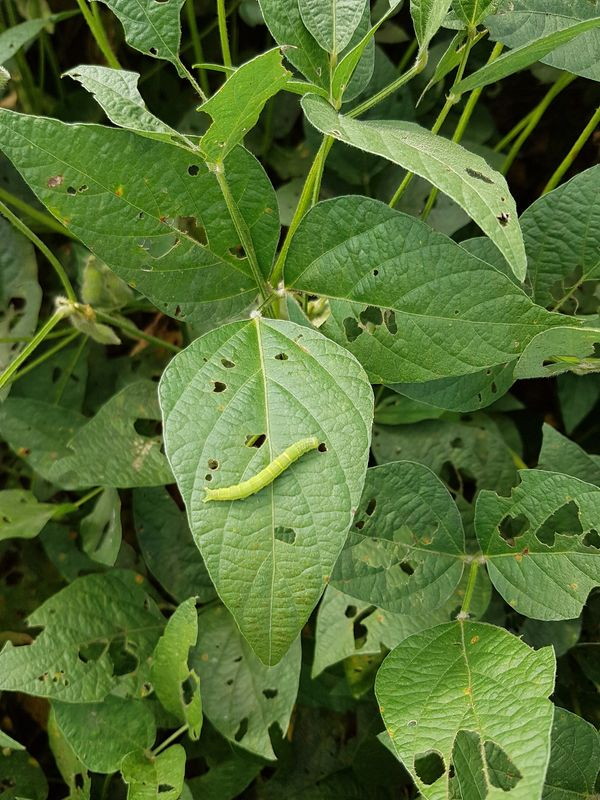Anticarsia_gemmatalis: (194, 429, 331, 514)
